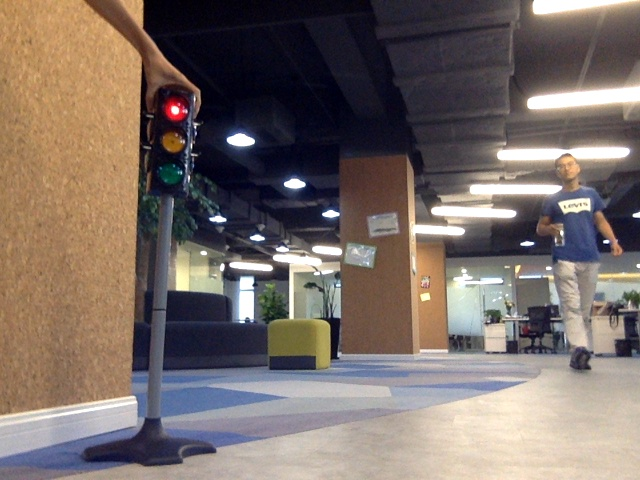red: (158, 96, 190, 187)
